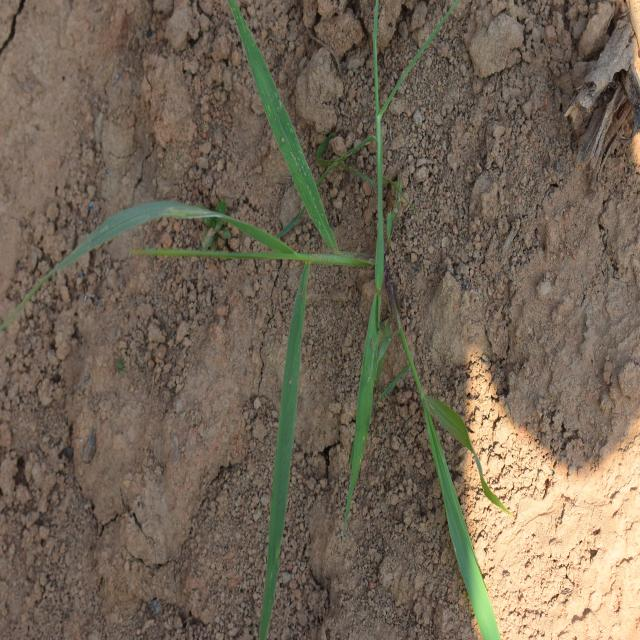green_foxtail: (36, 82, 342, 512), (347, 312, 509, 588)
